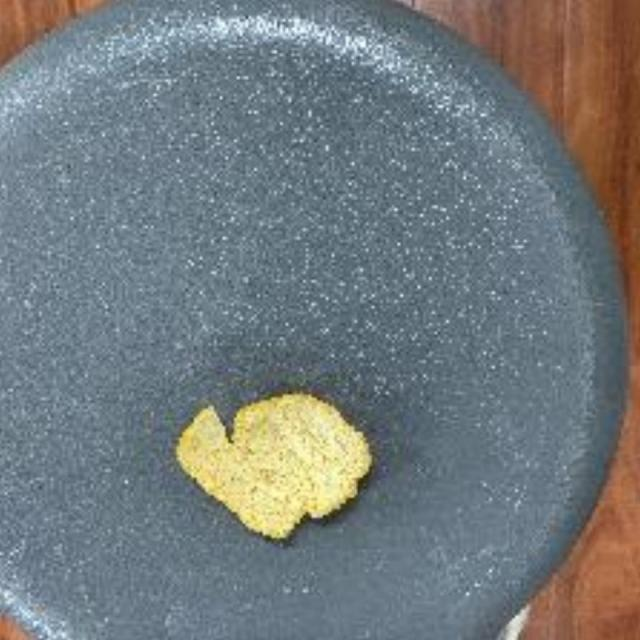orange-peel: (173, 389, 370, 539)
